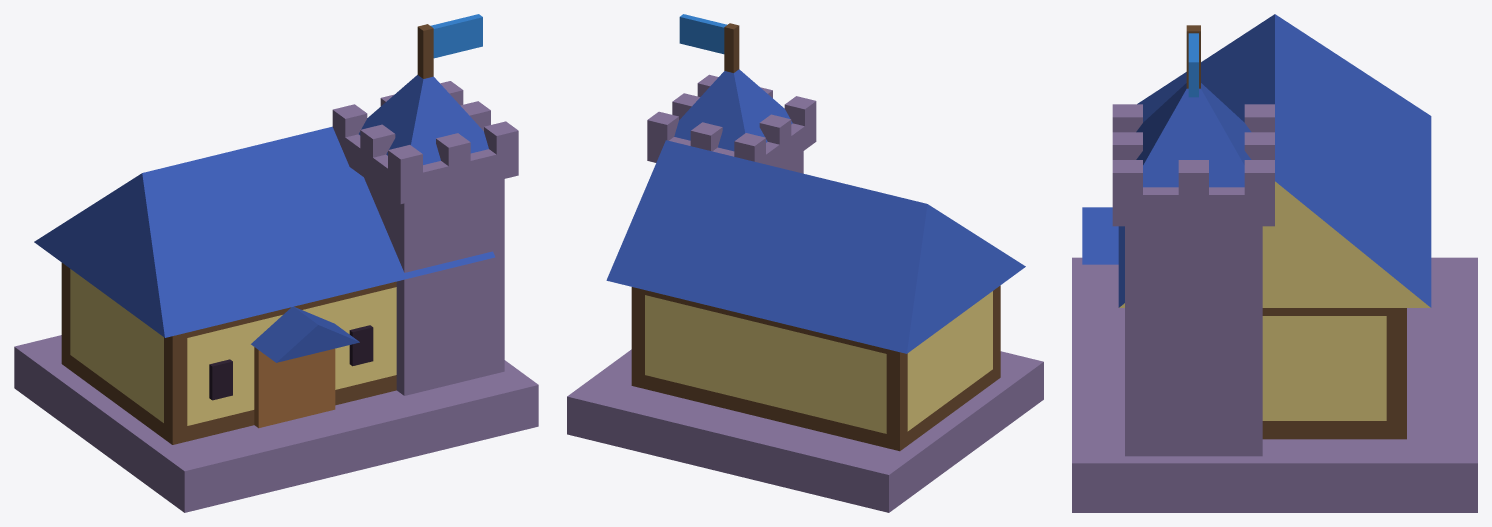
Rendered from manor.glb.
The picture shows the model from 3 angles, left to right: view 1: azimuth 30°, elevation 25°; view 2: azimuth 150°, elevation 25°; view 3: azimuth 270°, elevation 25°; orthographic projection. The views are drawn at different scales.
Parts seen in each view (by area): view 1: Roof, Plinth, Walls, Shaft, Spire, Ring, Door, Canopy, Flag, M1, M3, M2 (+5 smaller); view 2: Roof, Walls, Plinth, Spire, Ring, Flag, M8, Pole, M6, M4, M1, M7; view 3: Plinth, Roof, Shaft, Walls, Spire, Ring, Canopy, M3, M5, M8, M1, M6 (+3 smaller).
Boxes of the visible parts, bbox=[...] form: Roof: bbox=[34, 126, 495, 337]; Plinth: bbox=[14, 335, 538, 512]; Walls: bbox=[61, 263, 396, 444]; Shaft: bbox=[364, 177, 504, 395]; Spire: bbox=[358, 75, 488, 164]; Ring: bbox=[333, 129, 518, 203]; Door: bbox=[254, 347, 335, 428]; Canopy: bbox=[251, 306, 359, 362]; Flag: bbox=[430, 14, 482, 58]; M1: bbox=[388, 145, 422, 177]; M3: bbox=[484, 121, 518, 154]; M2: bbox=[436, 133, 470, 166]; Roof: bbox=[606, 140, 1025, 353]; Walls: bbox=[631, 285, 1000, 451]; Plinth: bbox=[567, 349, 1043, 512]; Spire: bbox=[674, 69, 792, 151]; Ring: bbox=[647, 118, 816, 167]; Flag: bbox=[679, 14, 727, 54]; M8: bbox=[647, 111, 678, 141]; Pole: bbox=[724, 23, 739, 72]; M6: bbox=[734, 133, 765, 161]; M4: bbox=[759, 114, 791, 144]; M1: bbox=[784, 96, 816, 126]; M7: bbox=[690, 122, 722, 151]; Plinth: bbox=[1072, 257, 1477, 512]; Roof: bbox=[1118, 14, 1431, 307]; Shaft: bbox=[1125, 226, 1262, 456]; Walls: bbox=[1262, 308, 1406, 439]; Spire: bbox=[1136, 83, 1251, 187]; Ring: bbox=[1112, 187, 1274, 226]; Canopy: bbox=[1082, 207, 1118, 264]; M3: bbox=[1112, 160, 1142, 194]; M5: bbox=[1178, 160, 1208, 194]; M8: bbox=[1244, 160, 1274, 194]; M1: bbox=[1112, 104, 1142, 132]; M6: bbox=[1244, 104, 1274, 132].
Size of the model in its own units: 2.4 by 2.44 by 2.
